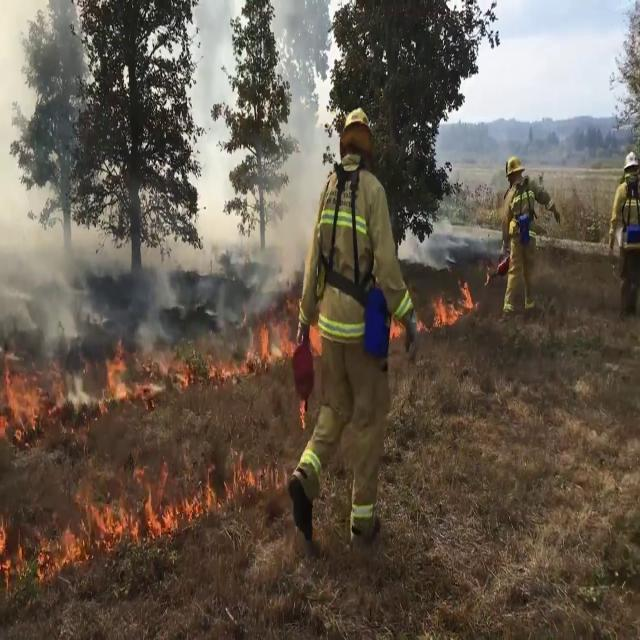Fire: (1, 330, 142, 432), (37, 481, 135, 574), (138, 462, 220, 540), (0, 352, 50, 444), (429, 271, 476, 333), (253, 302, 295, 370), (100, 336, 135, 409)
Smoke: (176, 7, 332, 302), (0, 4, 103, 342)
